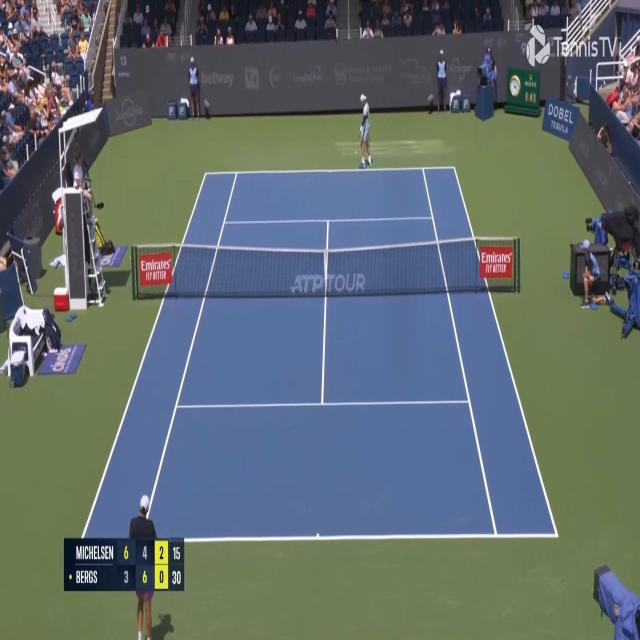tennis-player: (128, 492, 163, 639), (356, 92, 373, 169)
